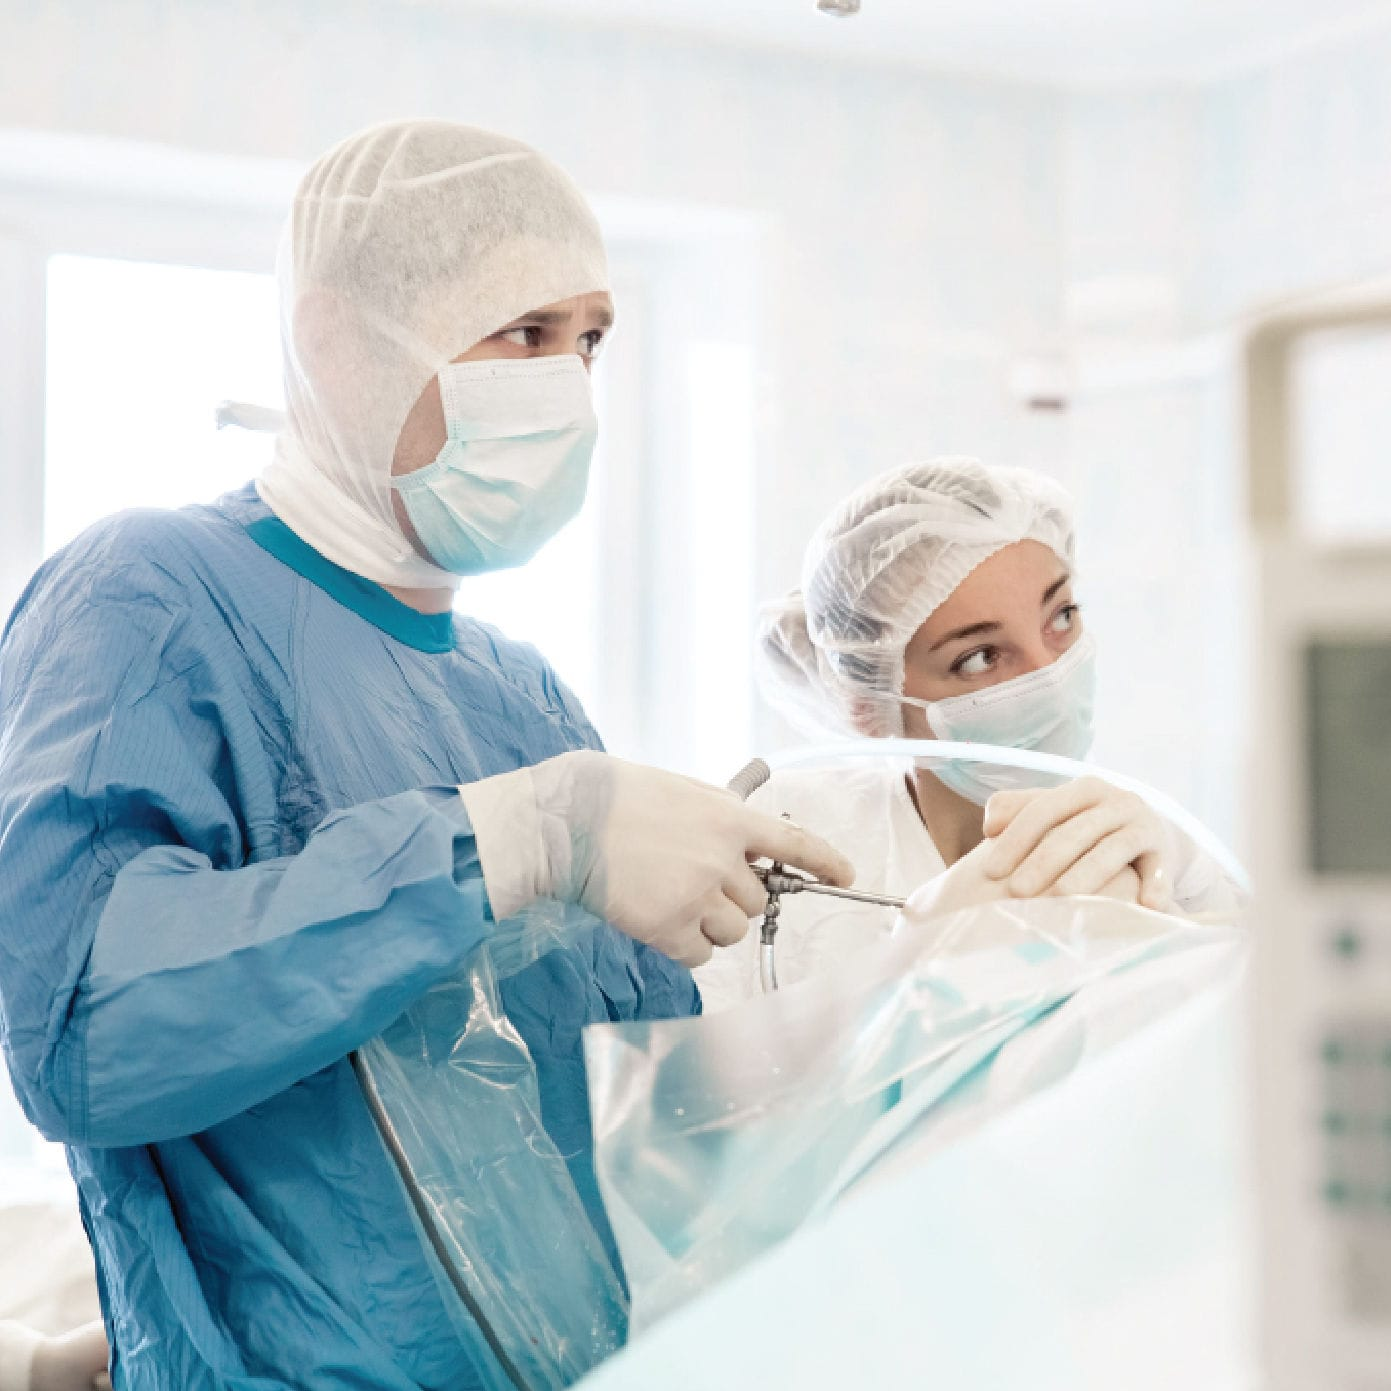Coverall: (3, 512, 658, 1391)
Gloves: (513, 748, 862, 975), (964, 776, 1185, 916)
with_mask: (393, 295, 608, 571), (928, 592, 1105, 793)
